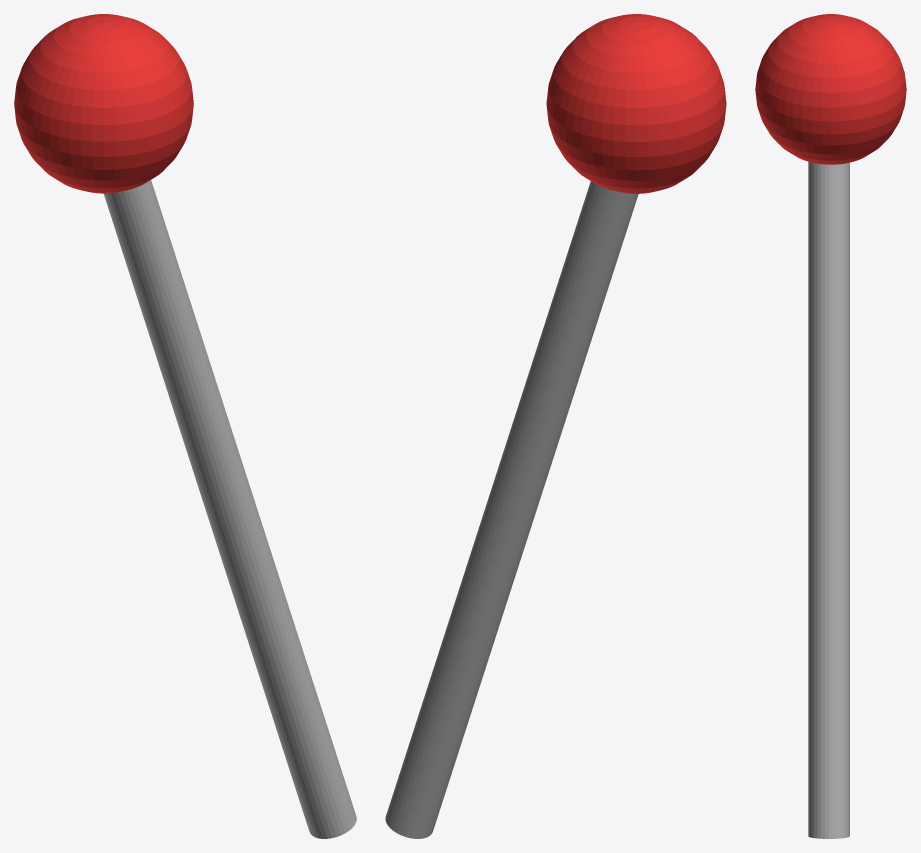
Rendered from shifter.glb.
3 views of the same model, side by side, from view 1: azimuth 30°, elevation 25°; view 2: azimuth 150°, elevation 25°; view 3: azimuth 270°, elevation 25° (orthographic). The views are drawn at different scales.
Visible parts, largest first — view 1: shifter; view 2: shifter; view 3: shifter.
Part boxes in pixels (x1=…): shifter: x1=14, y1=14, x2=356, y2=838; shifter: x1=385, y1=14, x2=726, y2=838; shifter: x1=755, y1=14, x2=906, y2=838.
Size of the model in its own units: 0.3112 by 0.7873 by 0.1486.
